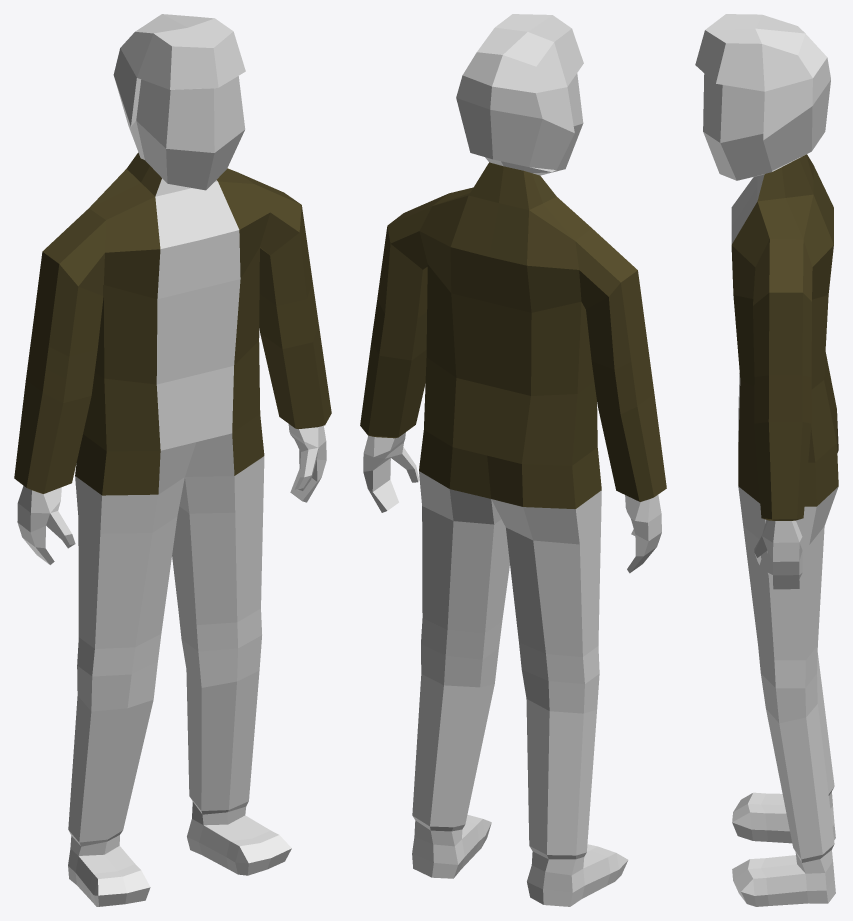
File: Don Espadana_BASE.fbx
The picture shows the model from 3 angles, left to right: view 1: azimuth 30°, elevation 25°; view 2: azimuth 150°, elevation 25°; view 3: azimuth 270°, elevation 25°; orthographic projection. The views are drawn at different scales.
Visible parts, largest first — view 1: Cube.001_Cube.000; view 2: Cube.001_Cube.000; view 3: Cube.001_Cube.000.
Part boxes in pixels (box(x1,y1,x2,y2)): Cube.001_Cube.000: box(14, 14, 331, 906); Cube.001_Cube.000: box(360, 14, 666, 906); Cube.001_Cube.000: box(695, 14, 838, 906).
Bounding box in the file's own units: 69.78 × 188 × 29.16.
